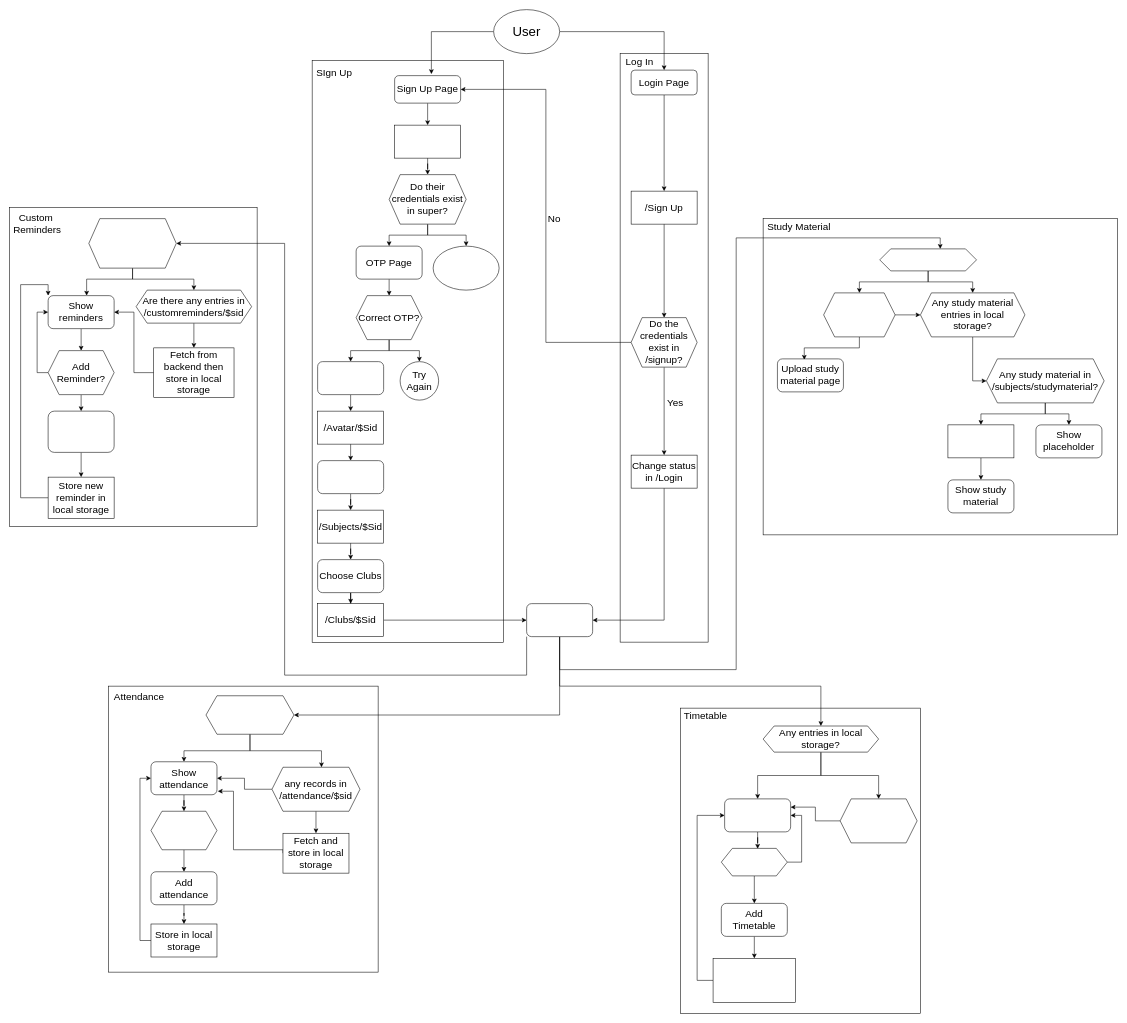
Some shapes in this 1127 by 1023 pixel diagram are drawn without their labels. Each missing label, with the centre of its shape:
/Super: pixel 427 141
Add attendance?: pixel 183 830
Add Custom Reminders: pixel 81 431
Add entry?: pixel 754 862
Add to local storage: pixel 980 441
Any attendance records in local storage?: pixel 249 714
Any entries in /timetable/$sid?: pixel 878 820
Are there any reminders in local storage: pixel 132 243
Auth level == 1?: pixel 928 259
Choose Avatar page: pixel 350 378
Choose Subjects: pixel 350 477
Main Page: pixel 559 620
Not a PEC student: pixel 466 268
Show Timetable: pixel 757 815
Upload entry to database and add to local storage: pixel 754 980
Upload study material?: pixel 859 314
